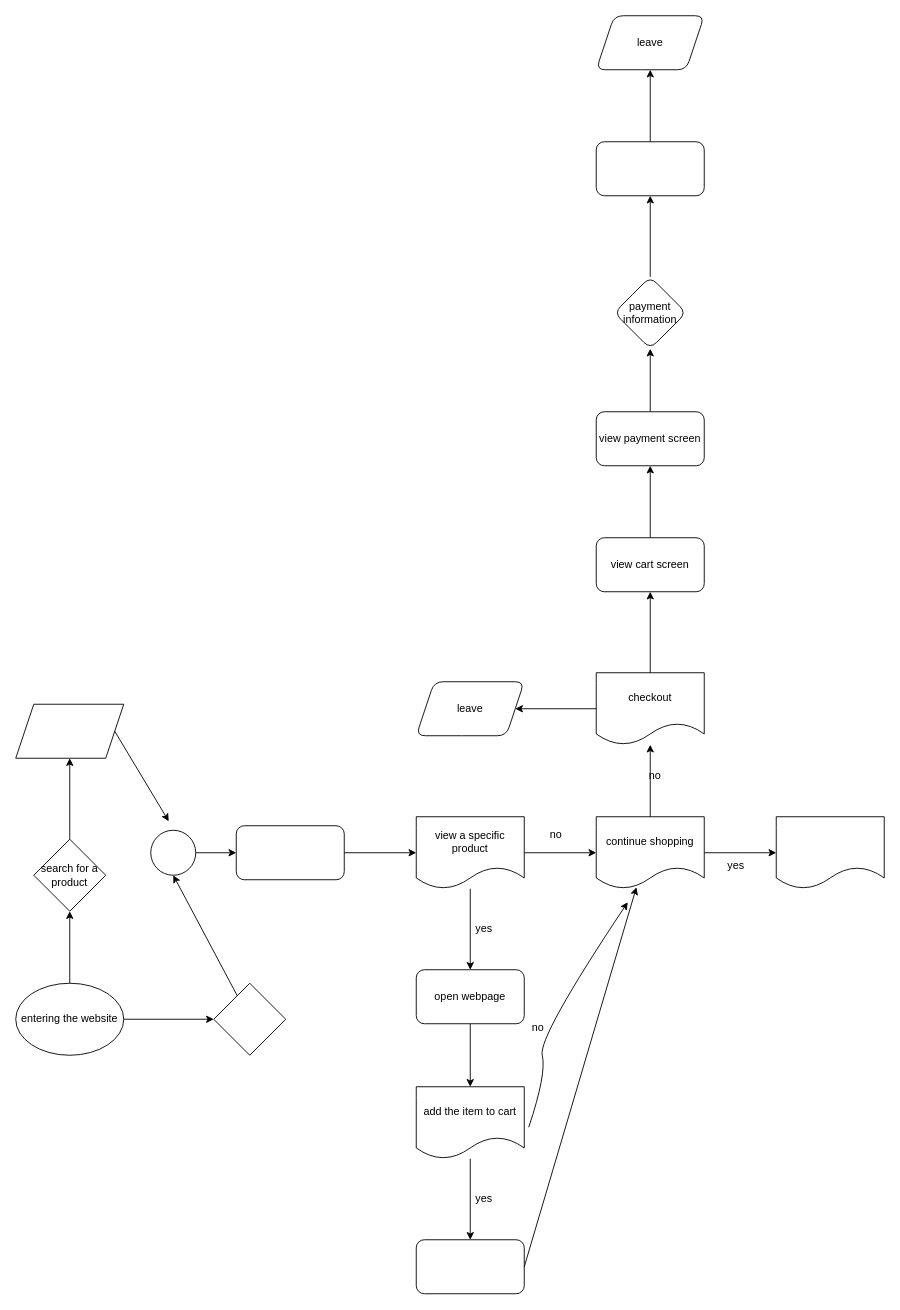
Some shapes in this 900 by 1310 pixel diagram are drawn without their labels. Here are the shapes that lost their labels. From the top down, the centre of each, then its label:
At point (649, 168): "see order confirmation".
At point (69, 730): "ask for input for a product".
At point (289, 852): "browse for products".
At point (829, 852): "search for a new product".
At point (249, 1018): "explore product".
At point (469, 1266): "show confirmation message".
